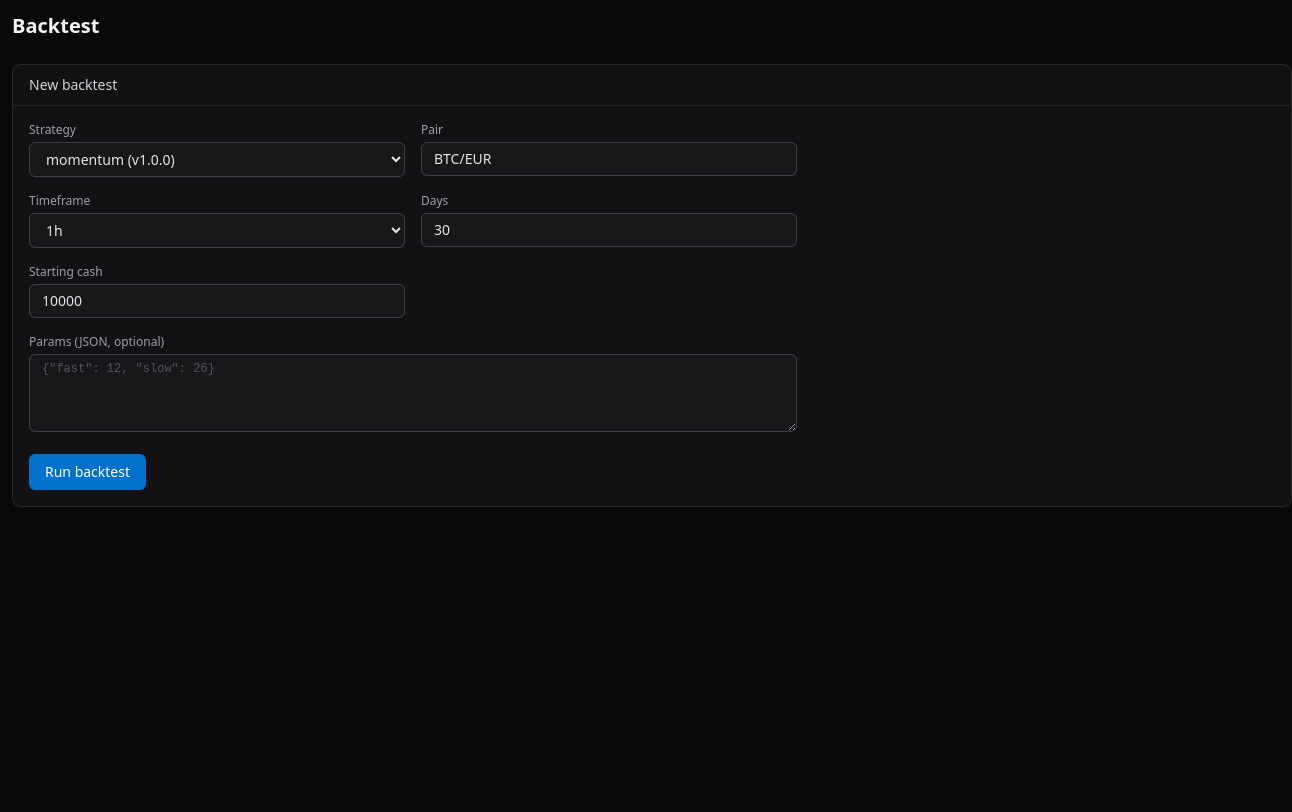
Test: BacktestPage › submits, polls the job and shows the resulting metrics
Click the button "Run backtest" at x=88, y=472, box top-left (29, 454), bottom-right (146, 490)
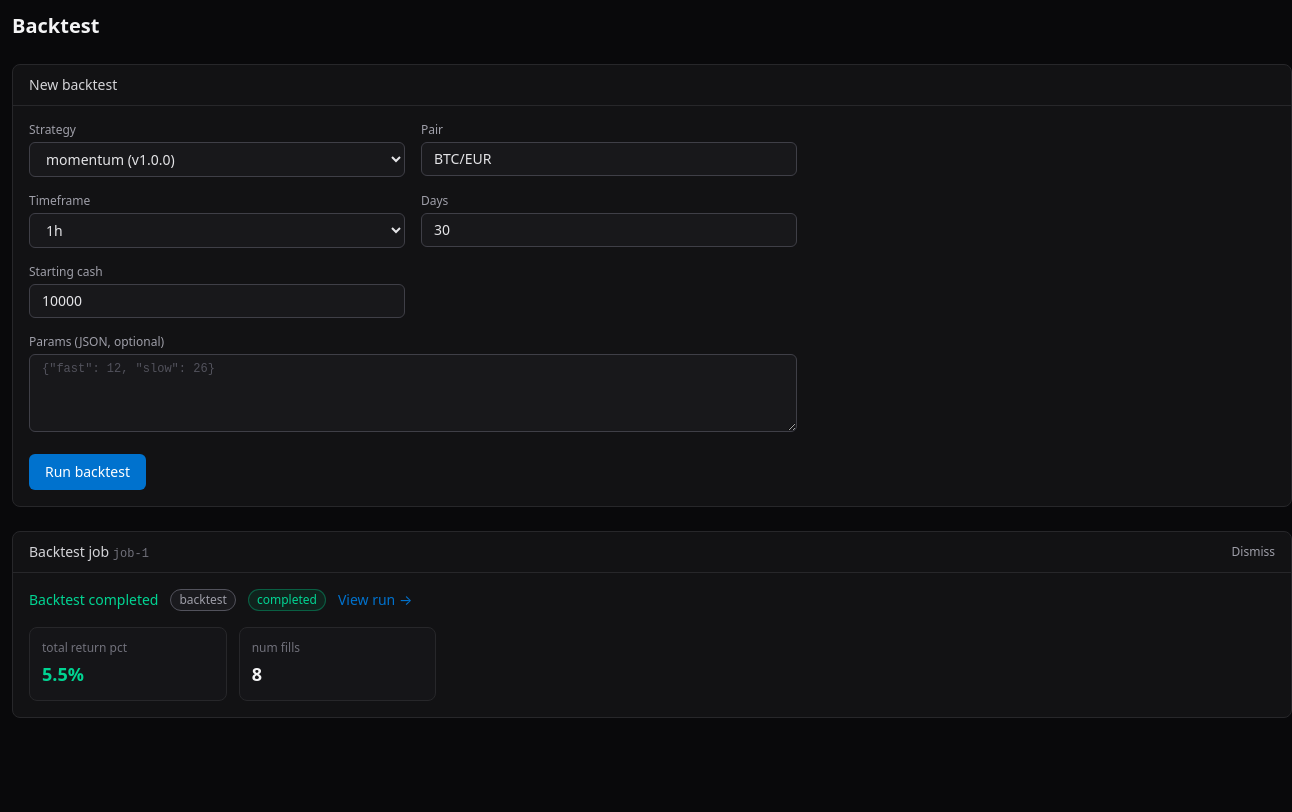
expect the text "Backtest completed" is shown: met, box top-left (29, 590), bottom-right (158, 610)
expect the text "5.5%" is shown: met, box top-left (42, 662), bottom-right (84, 686)
